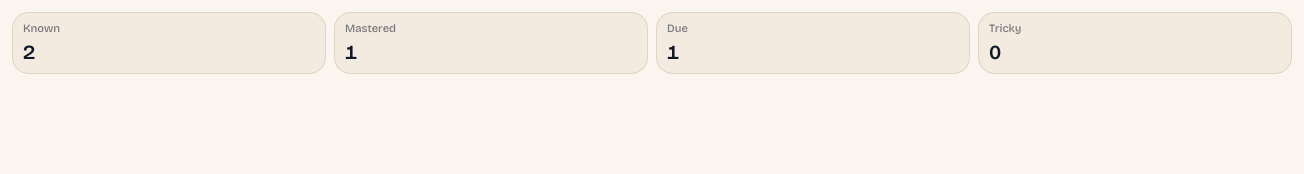
Test case: opening one › shows the words behind the figure
Click the button "Known 2".
click(42, 28)  # box [12,12,326,74]
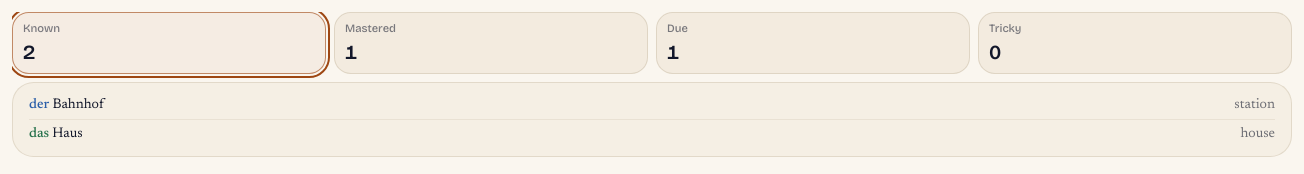
Now the text "Bahnhof" is shown, box [52,98,104,112]
Now the text "Haus" is shown, box [52,127,83,141]
